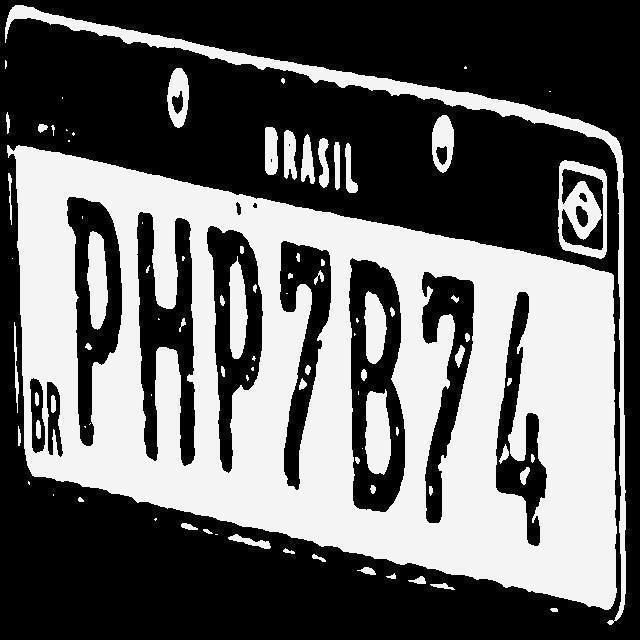4: (492, 287, 550, 548)
7: (420, 270, 476, 525), (279, 240, 334, 492)
b: (348, 257, 407, 515)
h: (136, 212, 198, 467)
p: (66, 196, 124, 454), (206, 225, 264, 474)
